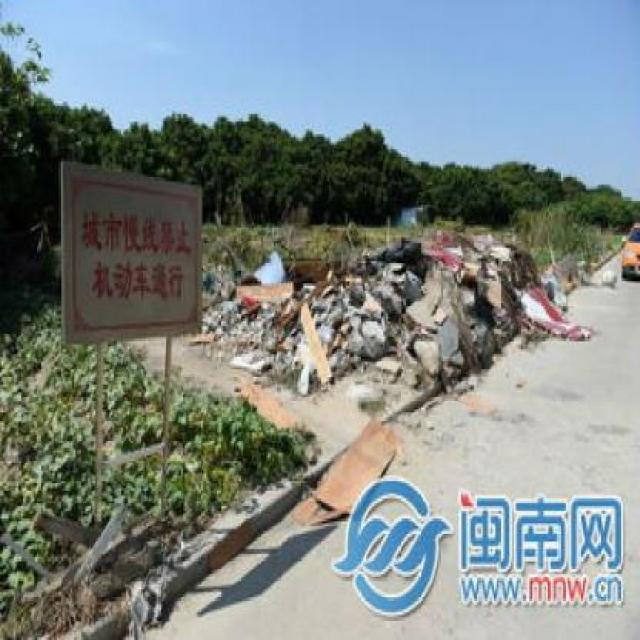garbage: (214, 253, 530, 349), (319, 443, 383, 484)
